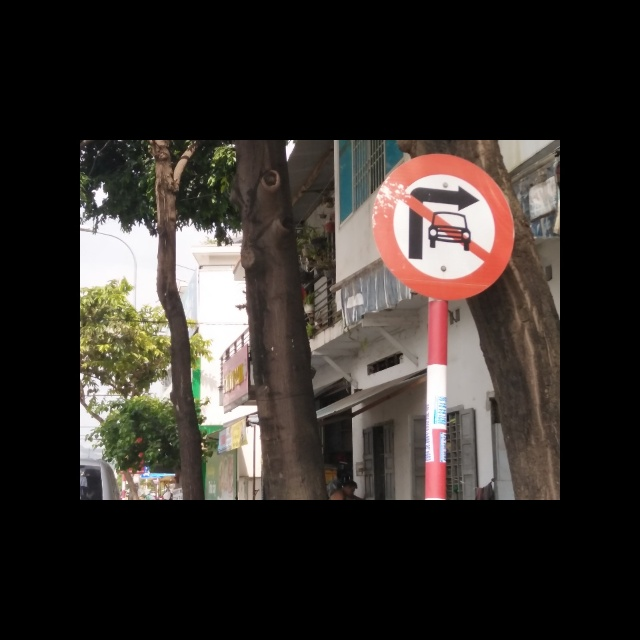Cấm xe ô tô rẽ trái: (373, 154, 520, 301)
